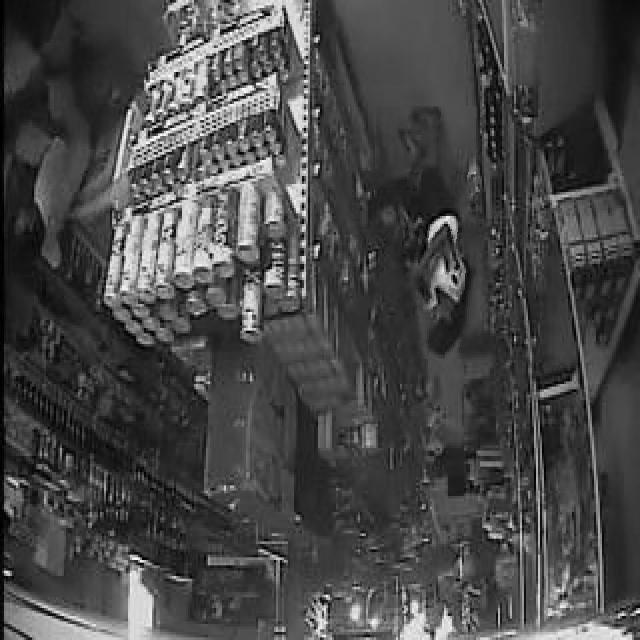Shoplifting: (369, 106, 476, 358)
